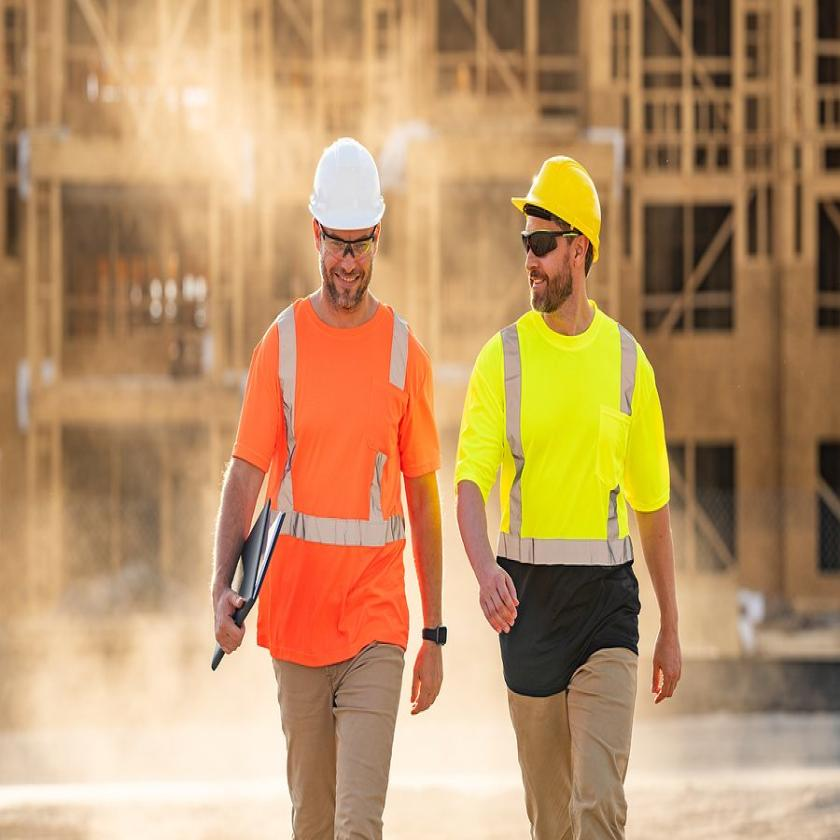Con_casco: (510, 154, 606, 317), (307, 137, 391, 321)
